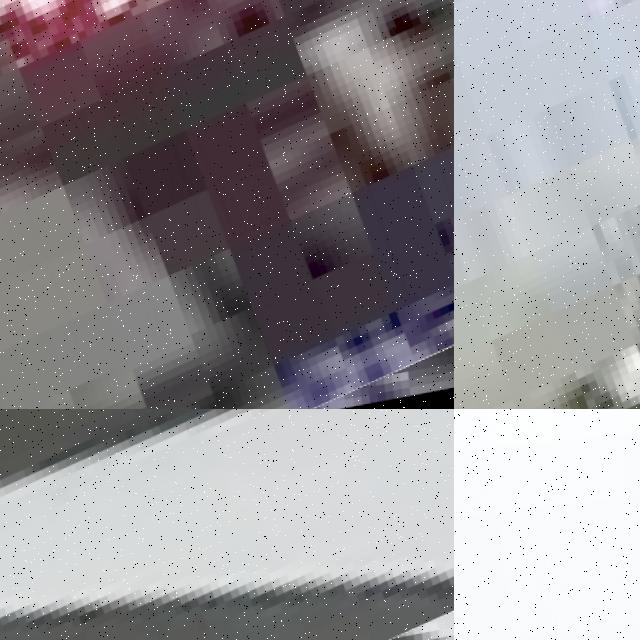drone: (0, 0, 454, 409), (0, 409, 454, 640), (454, 0, 640, 409)
